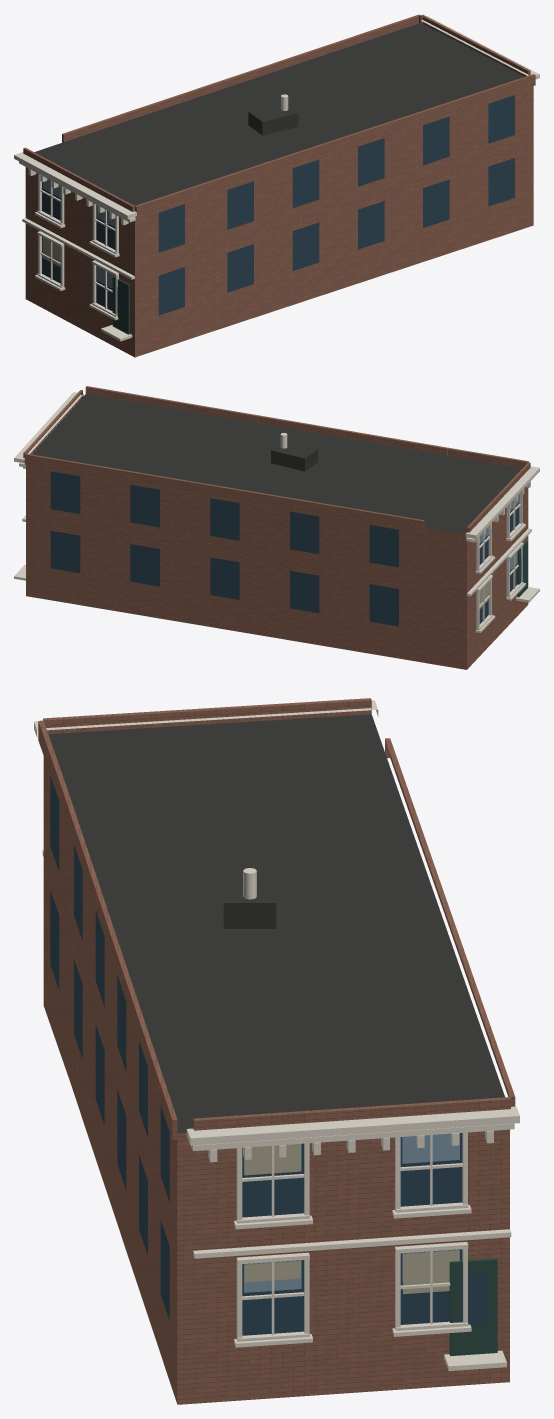
The picture shows the model from 3 angles, top to bottom: view 1: azimuth 30°, elevation 25°; view 2: azimuth 150°, elevation 25°; view 3: azimuth 270°, elevation 25°; orthographic projection. The views are drawn at different scales.
Visible parts, largest first — view 1: Footprint 0 / surface 2, Footprint 0 / surface 1, Inset glazing, Facade bay volumes, Cornices and window frames, Storefronts and doors, Sky reflection panels, Inferred rooftop service enclosure / surface 5, Inferred rooftop service enclosure / surface 3; view 2: Footprint 0 / surface 2, Footprint 0 / surface 1, Inset glazing, Facade bay volumes, Cornices and window frames, Inferred rooftop service enclosure / surface 6, Inferred rooftop service enclosure / surface 3; view 3: Footprint 0 / surface 1, Footprint 0 / surface 2, Cornices and window frames, Inset glazing, Facade bay volumes, Interior blind variation, Storefronts and doors, Sky reflection panels, Inferred rooftop service enclosure / surface 3, Inferred rooftop service enclosure / surface 1.
Boxes of the visible parts, box(x1,y1,x2,y2) form: Footprint 0 / surface 2: box(25, 86, 533, 357); Footprint 0 / surface 1: box(34, 23, 524, 205); Inset glazing: box(42, 95, 514, 316); Facade bay volumes: box(23, 14, 535, 217); Cornices and window frames: box(14, 16, 539, 341); Storefronts and doors: box(112, 276, 129, 334); Sky reflection panels: box(42, 178, 115, 288); Inferred rooftop service enclosure / surface 5: box(262, 113, 298, 135); Inferred rooftop service enclosure / surface 3: box(249, 104, 297, 121); Footprint 0 / surface 2: box(26, 464, 528, 669); Footprint 0 / surface 1: box(31, 394, 521, 533); Inset glazing: box(50, 471, 526, 626); Facade bay volumes: box(23, 386, 530, 532); Cornices and window frames: box(14, 392, 539, 632); Inferred rooftop service enclosure / surface 6: box(271, 450, 304, 471); Inferred rooftop service enclosure / surface 3: box(271, 441, 317, 458); Footprint 0 / surface 1: box(48, 714, 504, 1133); Footprint 0 / surface 2: box(43, 756, 509, 1404); Cornices and window frames: box(34, 700, 519, 1370); Inset glazing: box(50, 775, 487, 1335); Facade bay volumes: box(38, 698, 515, 1139); Interior blind variation: box(244, 1144, 459, 1294); Storefronts and doors: box(449, 1258, 497, 1356); Sky reflection panels: box(244, 1133, 459, 1292); Inferred rooftop service enclosure / surface 3: box(223, 869, 276, 902); Inferred rooftop service enclosure / surface 1: box(223, 903, 276, 928).
Size of the model in its own units: 23.67 by 8.13 by 11.1.
